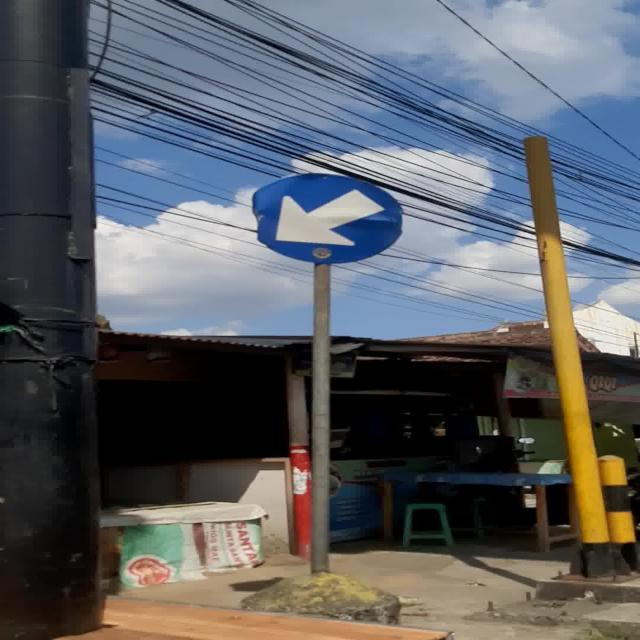Lajur Kiri: (252, 174, 402, 262)
